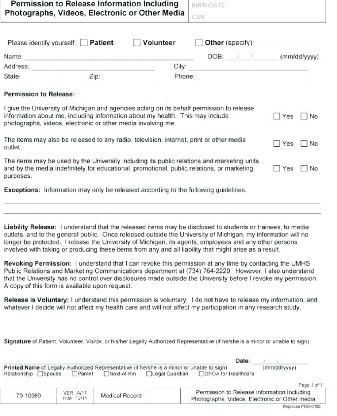checkbox: (299, 111, 311, 123), (193, 37, 205, 48), (132, 37, 143, 48), (297, 164, 309, 174), (78, 37, 90, 47), (272, 112, 283, 122), (271, 163, 282, 173), (300, 138, 308, 148), (273, 139, 281, 148), (144, 369, 152, 378), (102, 370, 110, 379), (197, 370, 205, 378), (70, 370, 79, 377), (36, 370, 44, 377)
textbox: (148, 387, 182, 406)
textline: (1, 197, 323, 208), (1, 208, 323, 219), (3, 330, 310, 341), (1, 355, 229, 366), (24, 55, 196, 63), (196, 75, 311, 84), (31, 65, 158, 73), (187, 65, 310, 73), (23, 74, 88, 84), (254, 41, 318, 49), (100, 76, 159, 84)
